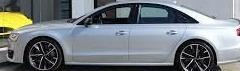Cars: (9, 3, 240, 71)
